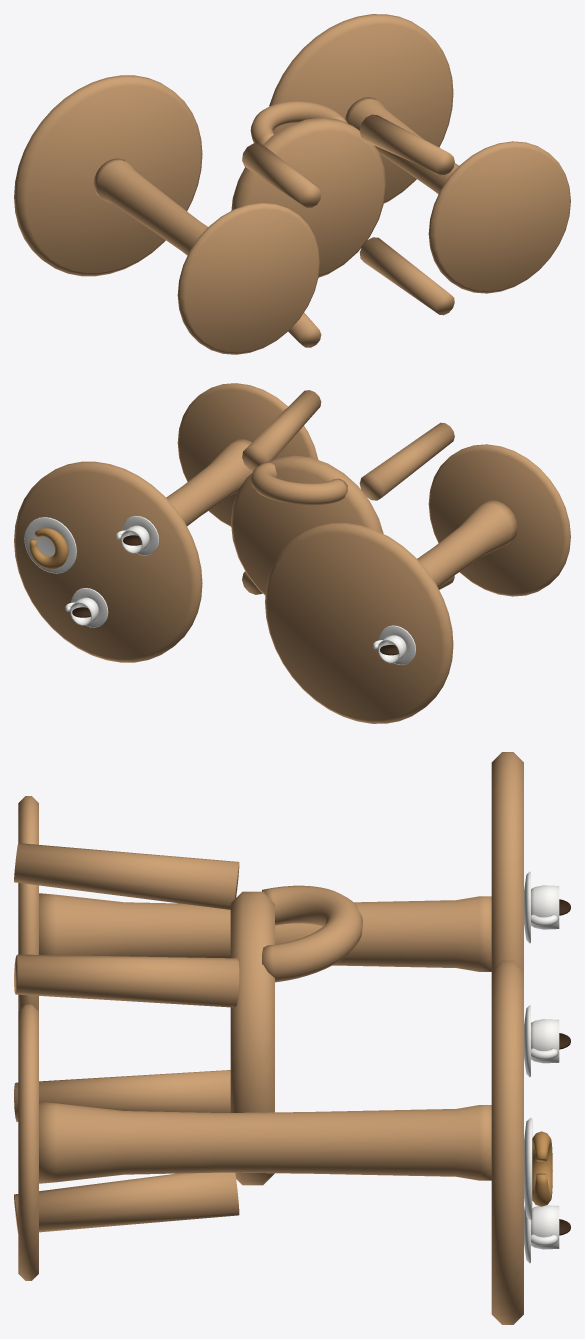
File: 19-cafe-table-set.glb
3 renders of one model, top to bottom at view 1: azimuth 30°, elevation 25°; view 2: azimuth 150°, elevation 25°; view 3: azimuth 270°, elevation 25°, orthographic. The views are drawn at different scales.
Visible parts, largest first — view 1: TableA_Top, TableA_Foot, TableB_Foot, TableB_Top, ChairAW_Seat, TableA_Column, ChairAW_Leg_+1-1, ChairAW_Leg_+1+1, ChairAW_Leg_-1+1, TableB_Column, ChairAW_Back, ChairAW_Leg_-1-1; view 2: TableA_Top, TableB_Top, TableA_Foot, ChairAW_Seat, TableB_Foot, TableA_Column, TableB_Column, ChairAW_Leg_-1+1, ChairAW_Leg_+1+1, ChairAW_Back, PlateB_Plate, PlateB_Croissant (+6 smaller); view 3: TableB_Column, TableA_Column, TableB_Top, ChairAW_Leg_+1+1, ChairAW_Leg_-1+1, ChairAW_Seat, ChairAW_Leg_+1-1, TableA_Top, ChairAW_Leg_-1-1, ChairAW_Back, TableB_Foot, TableA_Foot (+5 smaller).
Part boxes in pixels (<box>): TableA_Top: <box>14,75,202,276</box>; TableA_Foot: <box>177,202,319,354</box>; TableB_Foot: <box>428,141,570,293</box>; TableB_Top: <box>269,14,453,203</box>; ChairAW_Seat: <box>231,117,386,277</box>; TableA_Column: <box>93,158,207,255</box>; ChairAW_Leg_+1-1: <box>359,237,454,315</box>; ChairAW_Leg_+1+1: <box>359,114,454,174</box>; ChairAW_Leg_-1+1: <box>242,143,321,207</box>; TableB_Column: <box>345,97,458,194</box>; ChairAW_Back: <box>250,101,347,144</box>; ChairAW_Leg_-1-1: <box>288,312,321,347</box>; TableA_Top: <box>265,523,453,723</box>; TableB_Top: <box>14,461,202,662</box>; TableA_Foot: <box>428,444,570,596</box>; ChairAW_Seat: <box>231,455,383,595</box>; TableB_Foot: <box>177,383,318,526</box>; TableA_Column: <box>417,500,517,587</box>; TableB_Column: <box>166,439,252,526</box>; ChairAW_Leg_-1+1: <box>359,422,454,500</box>; ChairAW_Leg_+1+1: <box>242,390,321,470</box>; ChairAW_Back: <box>250,462,347,505</box>; PlateB_Plate: <box>24,517,76,573</box>; PlateB_Croissant: <box>29,528,68,569</box>; TableB_Column: <box>39,1102,491,1183</box>; TableA_Column: <box>39,893,491,971</box>; TableB_Top: <box>491,960,523,1324</box>; ChairAW_Leg_+1+1: <box>14,954,239,1007</box>; ChairAW_Leg_-1+1: <box>14,843,239,909</box>; ChairAW_Seat: <box>230,891,274,1185</box>; ChairAW_Leg_+1-1: <box>14,1172,239,1233</box>; TableA_Top: <box>491,752,523,970</box>; ChairAW_Leg_-1-1: <box>14,1070,230,1121</box>; ChairAW_Back: <box>262,885,362,982</box>; TableB_Foot: <box>18,1004,38,1280</box>; TableA_Foot: <box>18,796,38,1011</box>.
Size of the model in its own units: 1.46 by 0.62 by 0.9474.
